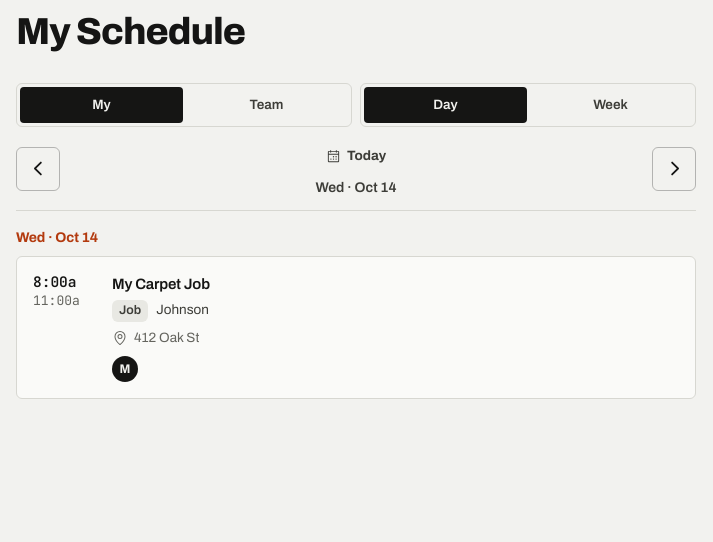
Test: MyScheduleView › Team scope reveals everyone's events
This screenshot has width=713, height=542.
Expected: the text "My Carpet Job" is shown, x1=112 y1=276 x2=210 y2=292
Click the button "Team" at (266,105), box x1=185 y1=87 x2=348 y2=123
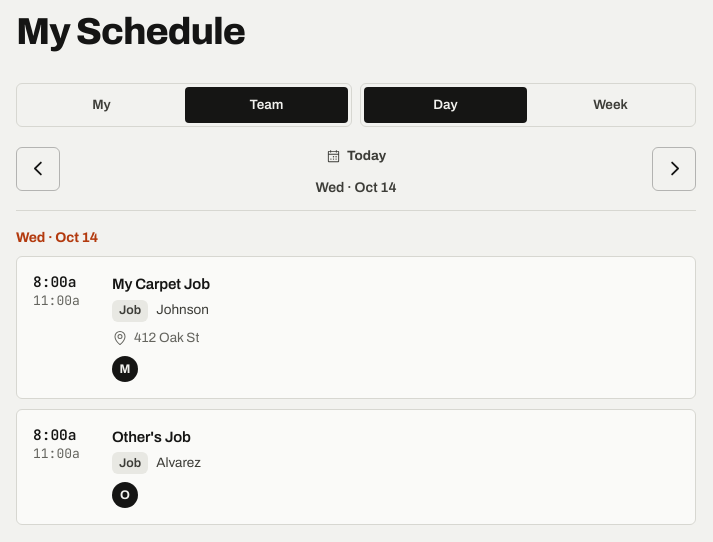
Expected: the text "Other's Job" is shown, x1=112 y1=429 x2=191 y2=445
